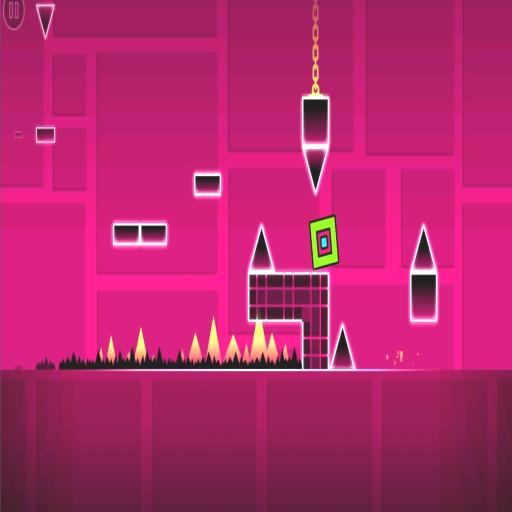block: (245, 267, 336, 380), (407, 263, 442, 329), (298, 90, 332, 153), (109, 218, 170, 253), (190, 172, 224, 200), (32, 120, 58, 146), (12, 127, 24, 144)
player: (310, 215, 339, 269)
spike: (412, 225, 435, 269), (331, 324, 354, 368), (250, 226, 273, 270), (304, 149, 327, 192), (36, 4, 55, 39), (208, 318, 223, 361), (251, 322, 267, 360), (135, 327, 147, 361), (189, 333, 202, 363), (225, 335, 240, 360), (268, 333, 279, 362), (107, 336, 115, 361), (243, 344, 250, 363), (283, 344, 289, 360), (181, 349, 184, 361), (100, 349, 102, 361), (127, 353, 130, 358)
